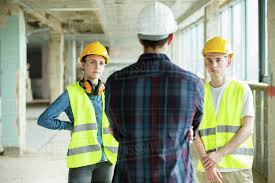Person_wearing_helmet: (132, 0, 174, 45), (75, 37, 114, 67), (200, 33, 232, 62)
